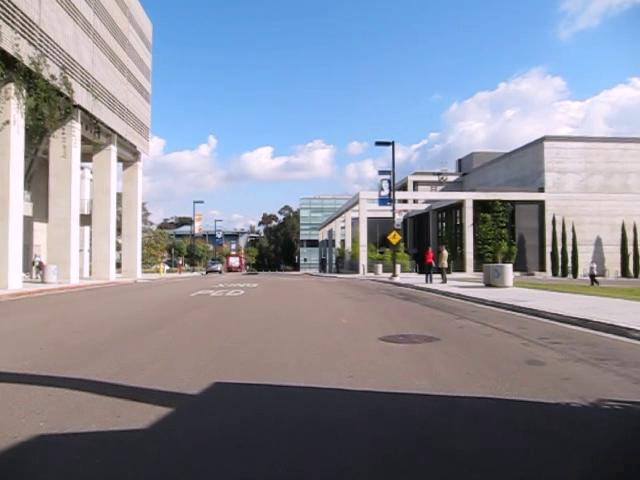pedestrianCrossing: (386, 228, 403, 246)
